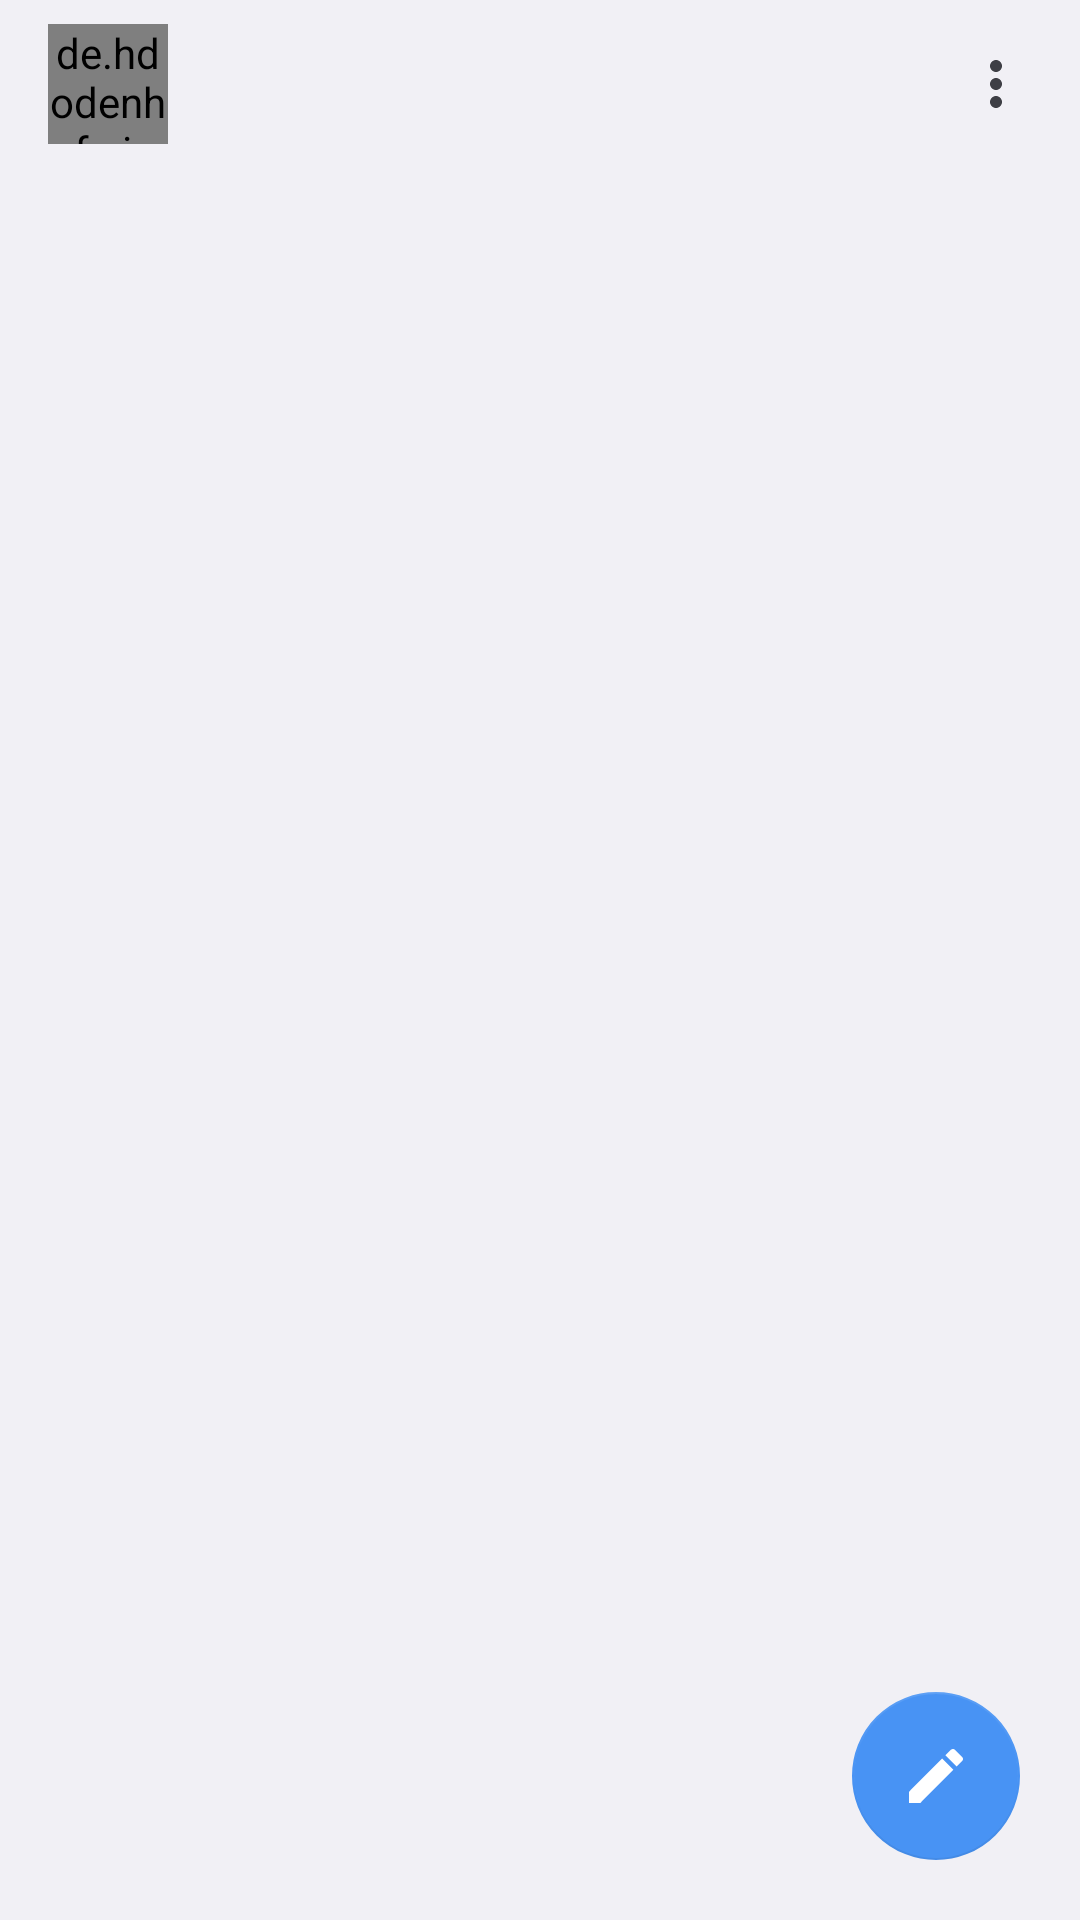

Screen size 1080×1920. Icon name, then its center in pixels as (x,y):
edit: (936,1776)
more vert: (996,84)
